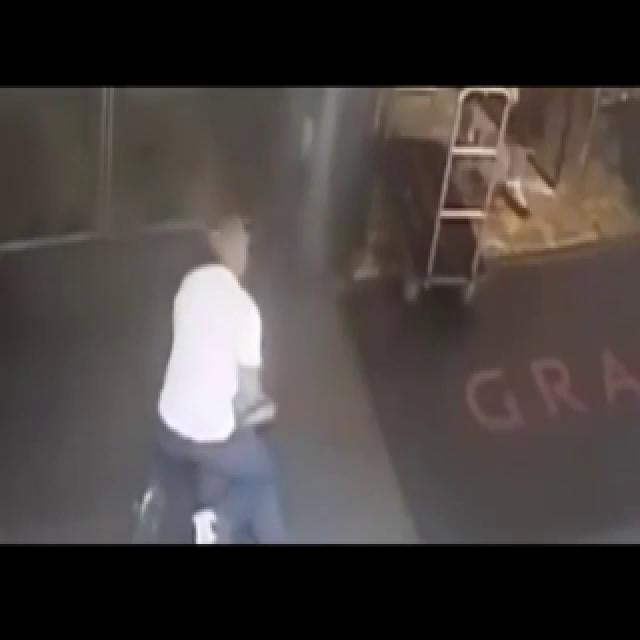arrest: (108, 156, 378, 546)
